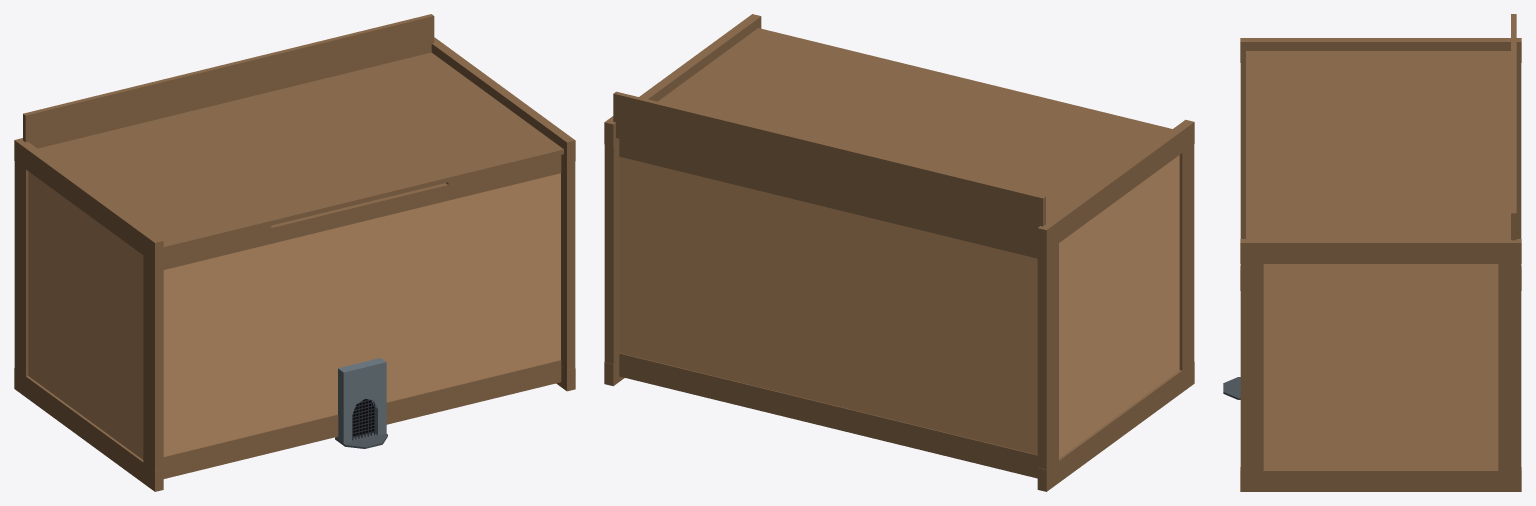
The model's file is models.gltf.
3 views of the same model, side by side, from view 1: azimuth 30°, elevation 25°; view 2: azimuth 150°, elevation 25°; view 3: azimuth 270°, elevation 25° (orthographic). The views are drawn at different scales.
Parts seen in each view (by area): view 1: Toybox; view 2: Toybox; view 3: Toybox.
Boxes of the visible parts, x1=… form: Toybox: x1=14, y1=14, x2=575, y2=491; Toybox: x1=604, y1=14, x2=1194, y2=491; Toybox: x1=1223, y1=14, x2=1521, y2=491.
Bounding box in the file's own units: 49 × 31.2 × 30.12.
